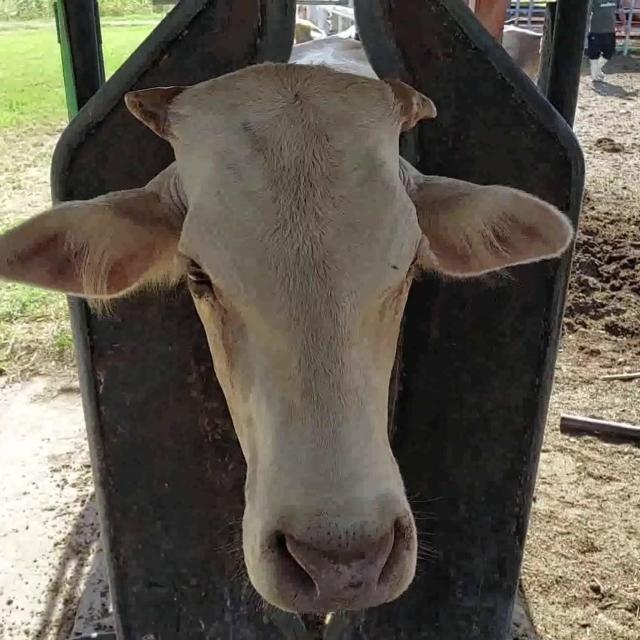cowFace: (176, 61, 423, 614)
